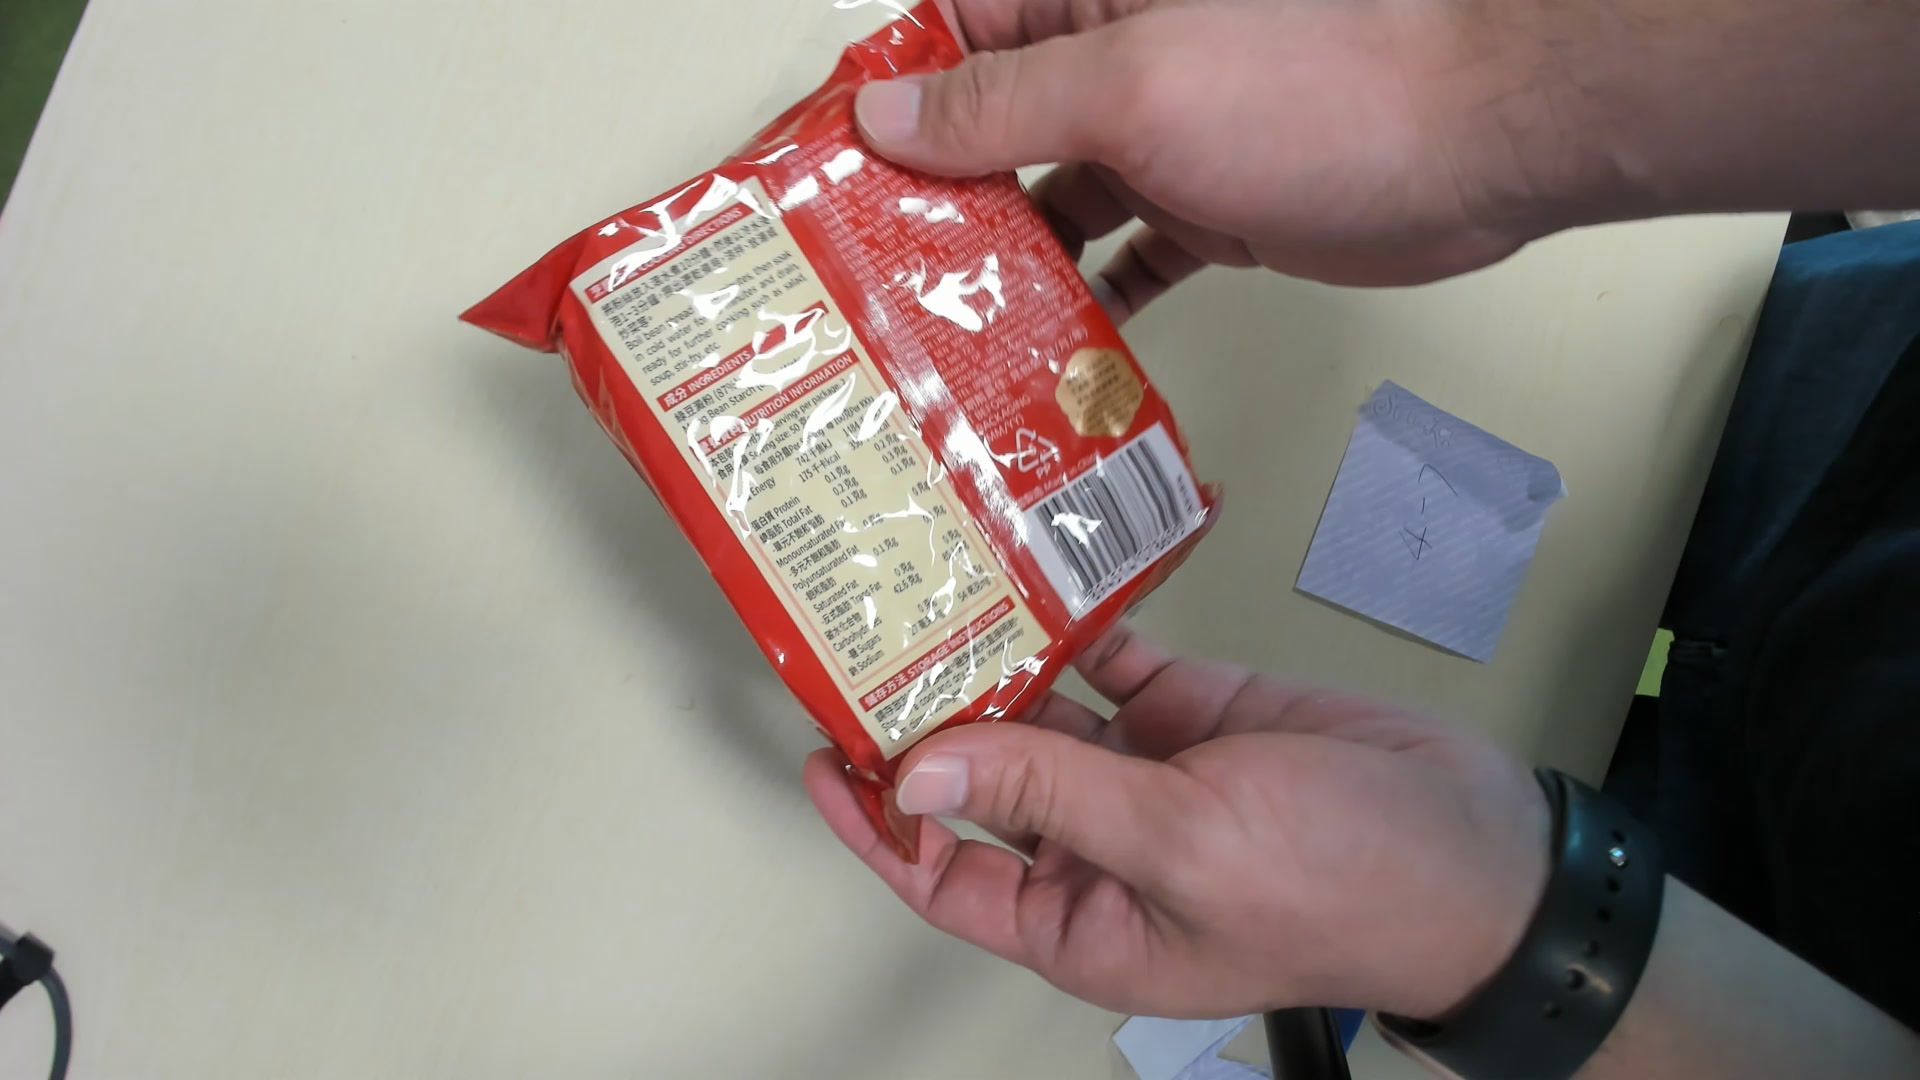BeeHoonVermicelli_100-199g_NonHalal_NonHealthy: (472, 8, 1230, 785)
